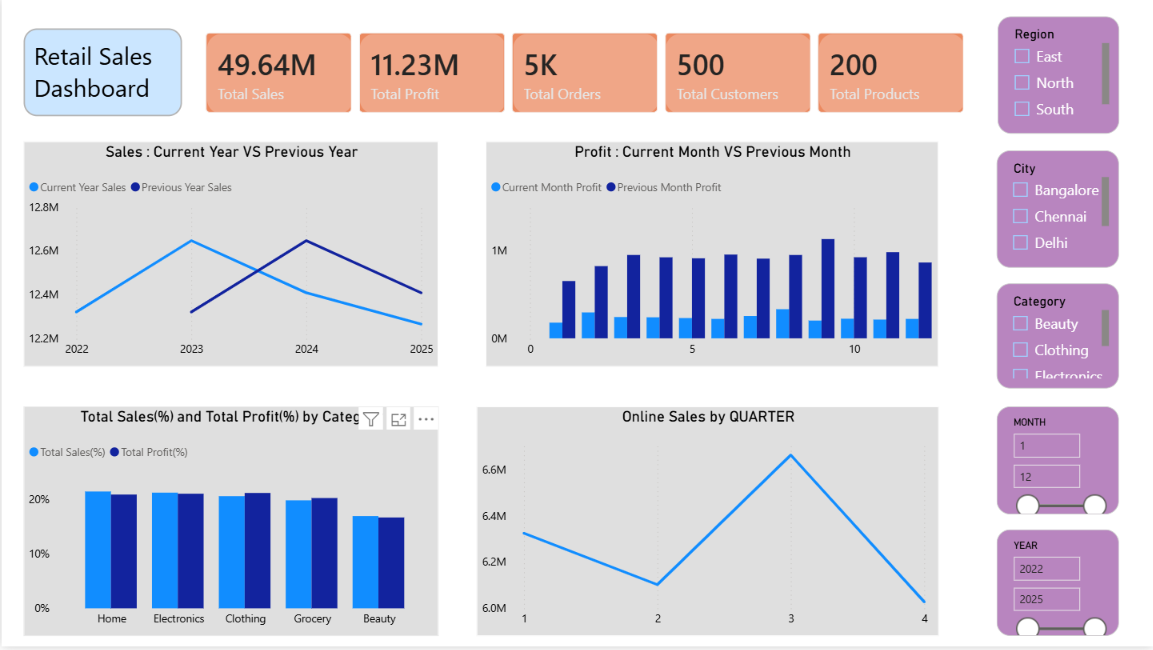

This screenshot's page, from the dashboard's own definition file:
{"tool":"powerbi","page":{"name":"Time Series Analysis","canvas":[1280,720],"ordinal":1},"visuals":[{"type":"slicer","fields":{"Values":["Dim Customer.Region"]},"box":[1106.2,20,135,130],"z":0},{"type":"slicer","fields":{"Values":["Dim Product.Category"]},"box":[1105.7,317.1,135.7,117.1],"z":1000},{"type":"slicer","fields":{"Values":["Dim Calender.MONTH"]},"box":[1105.7,452.9,135.7,120],"z":2000},{"type":"slicer","fields":{"Values":["Dim Calender.YEAR"]},"box":[1105.7,590,135.7,118.6],"z":3000},{"type":"slicer","fields":{"Values":["Dim Customer.City"]},"box":[1105.7,168.6,135.7,130],"z":4000},{"type":"textbox","box":[24.7,32.9,175.6,97.4],"z":5000},{"type":"cardVisual","fields":{"Data":["Fact Sales.Total Sales","Fact Sales.Total Profit","Fact Sales.Total Orders","Fact Sales.Total Customers","Fact Sales.Total Products"]},"box":[209.9,20.6,876.8,123.5],"z":6000},{"type":"lineChart","title":"Sales : Current Year VS Previous Year","fields":{"Category":["Dim Calender.YEAR"],"Y":["Fact Sales.Current Year Sales","Fact Sales.Previous Year Sales"]},"box":[24.4,158.9,461.1,250],"z":7000},{"type":"clusteredColumnChart","title":"Profit : Current Month VS Previous Month ","fields":{"Category":["Dim Calender.MONTH"],"Y":["Fact Sales.Current Month Profit","Fact Sales.Previous Month Profit"]},"box":[537.8,158.9,503.3,250],"z":8000},{"type":"clusteredColumnChart","fields":{"Category":["Dim Product.Category"],"Y":["Fact Sales.Total Sales(%)","Fact Sales.Total Profit(%)"]},"box":[24.4,453.3,461.1,255.6],"z":9000},{"type":"lineChart","fields":{"Category":["Dim Calender.QUARTER"],"Y":["Fact Sales.Online Sales"]},"box":[527.5,453.8,513.8,255],"z":10000}]}

Visuals, with their boxes in screenshot pixels (x1, y1, x2, y2), scaled from the page's 1280x720 canvas onto the 1153x650 screenshot:
slicer - Dim Customer.Region: [996,18,1118,135]
slicer - Dim Product.Category: [996,286,1118,392]
slicer - Dim Calender.MONTH: [996,409,1118,517]
slicer - Dim Calender.YEAR: [996,533,1118,640]
slicer - Dim Customer.City: [996,152,1118,270]
textbox: [22,30,180,118]
cardVisual - Fact Sales.Total Sales x Fact Sales.Total Profit: [189,19,979,130]
"Sales : Current Year VS Previous Year" lineChart: [22,143,437,369]
"Profit : Current Month VS Previous Month " clusteredColumnChart: [484,143,938,369]
clusteredColumnChart - Dim Product.Category x Fact Sales.Total Sales(%): [22,409,437,640]
lineChart - Dim Calender.QUARTER x Fact Sales.Online Sales: [475,410,938,640]
